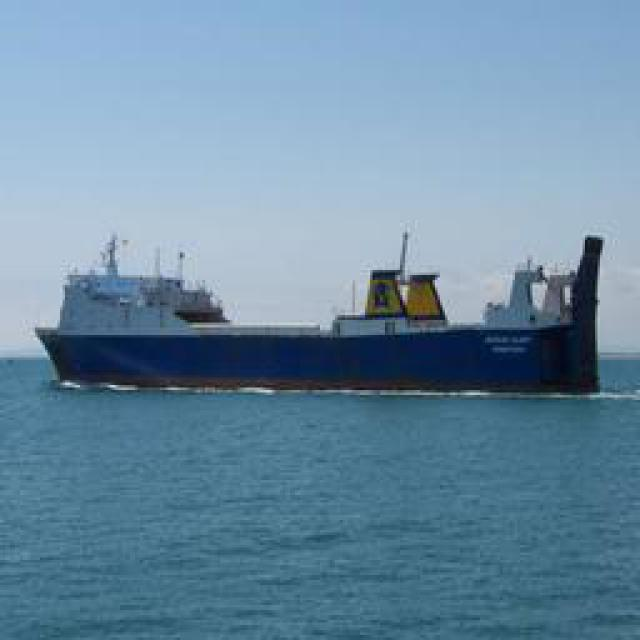Ship: (26, 221, 611, 399)
